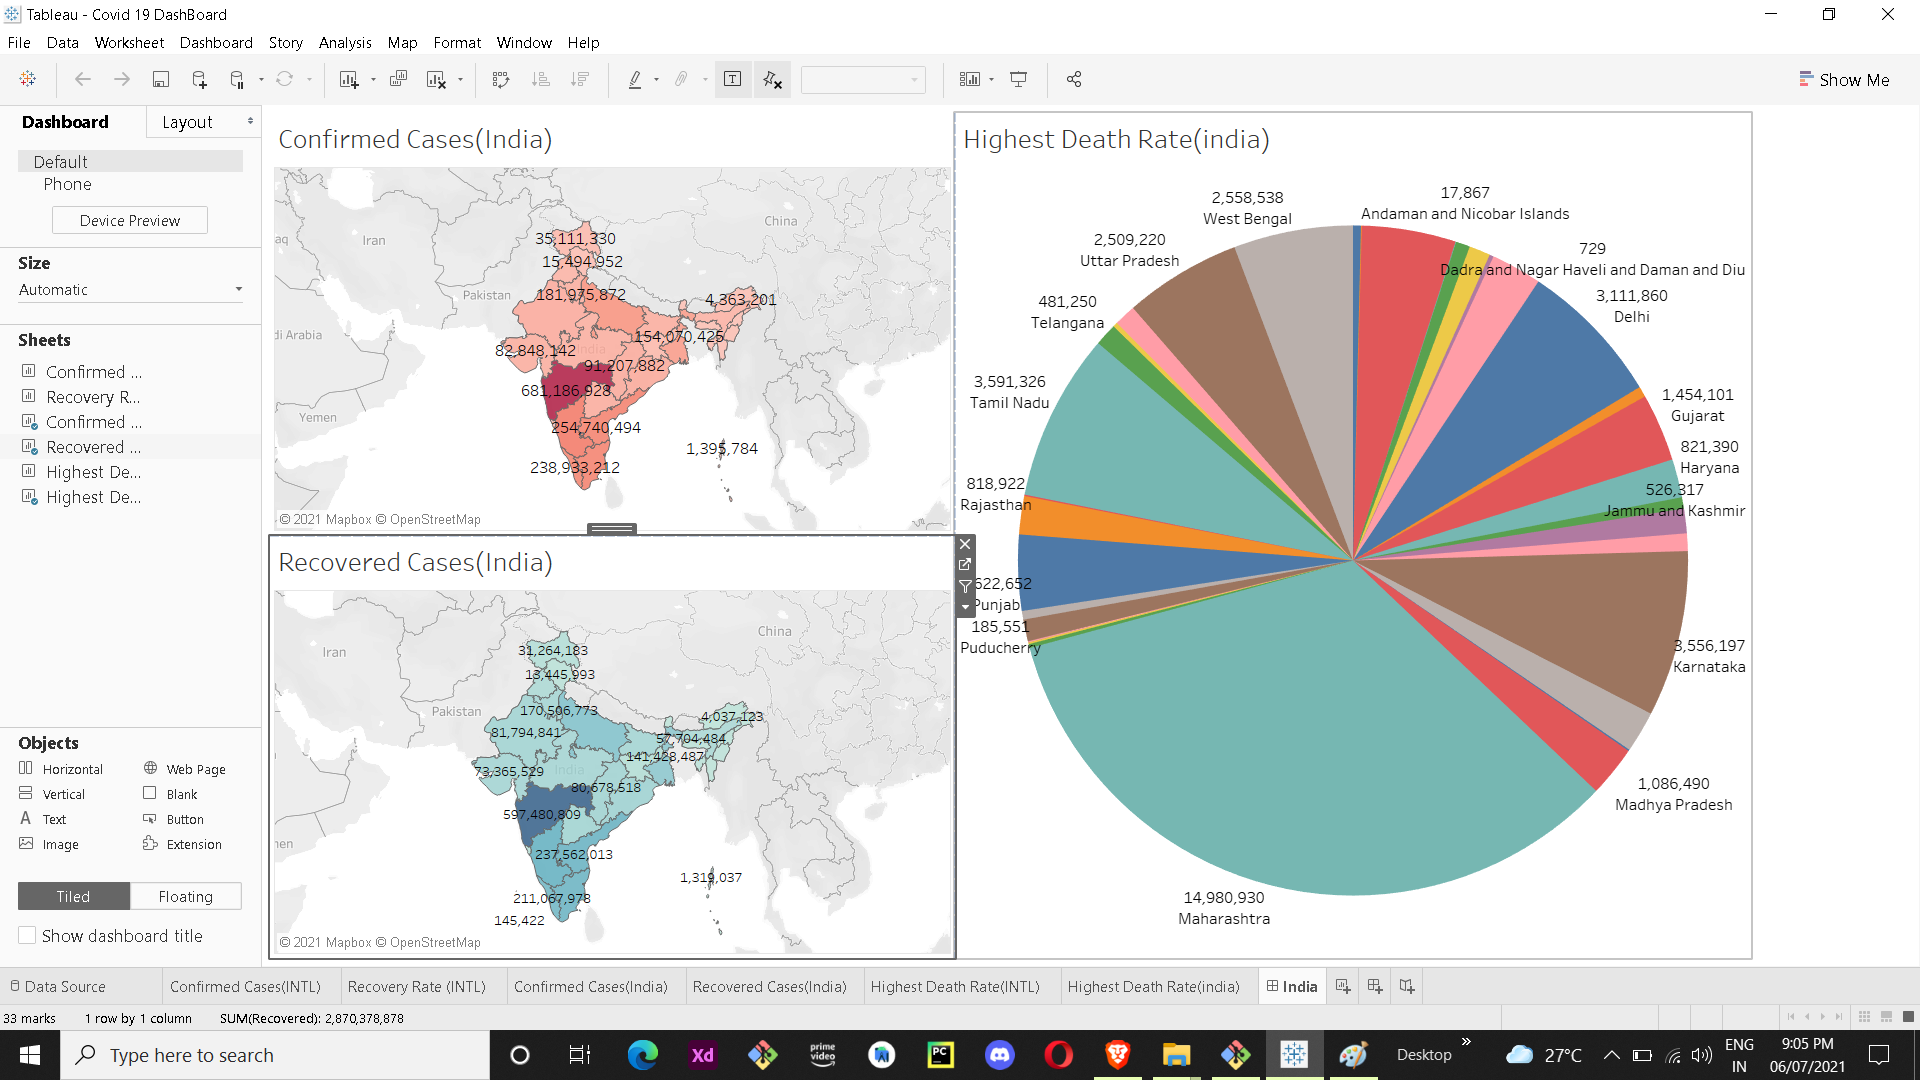

Layout of this report page (visuals, bound fields, positions):
{"tool":"tableau","page":{"name":"India","canvas":[1000,1000],"units":"permille","ordinal":1},"visuals":[{"type":"worksheet","title":"Confirmed Cases(India)","mark":"Automatic","box":[4.8,9.3,413.4,490.7]},{"type":"worksheet","title":"Highest Death Rate(india)","mark":"Pie","box":[418.2,9.3,480.4,981.4]},{"type":"blank","box":[898.6,9.3,96.6,245.3]},{"type":"blank","box":[898.6,254.6,96.6,245.3]},{"type":"worksheet","title":"Recovered Cases(India)","mark":"Automatic","box":[4.8,500,413.4,490.7]},{"type":"blank","box":[898.6,500,96.6,245.3]},{"type":"blank","box":[898.6,745.3,96.6,245.3]}]}

Visuals, with their boxes on the dashboard's canvas, which has no fixed pixel size, in thousandths of its width and height (x1, y1, x2, y2). These are canvas units, not pixel positions in the 1920x1080 screenshot, which may show the page scaled, cropped or inside an application window:
"Confirmed Cases(India)" worksheet: 5:9:418:500
"Highest Death Rate(india)" worksheet (Pie marks): 418:9:899:991
blank: 899:9:995:255
blank: 899:255:995:500
"Recovered Cases(India)" worksheet: 5:500:418:991
blank: 899:500:995:745
blank: 899:745:995:991
